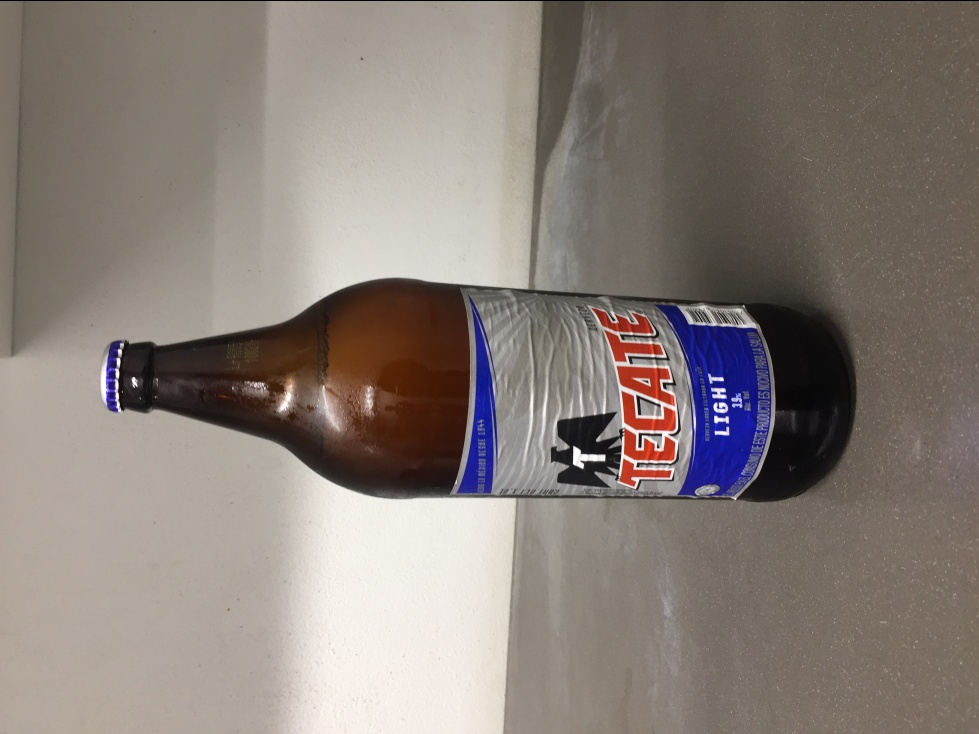tecateC: (98, 276, 857, 506)
